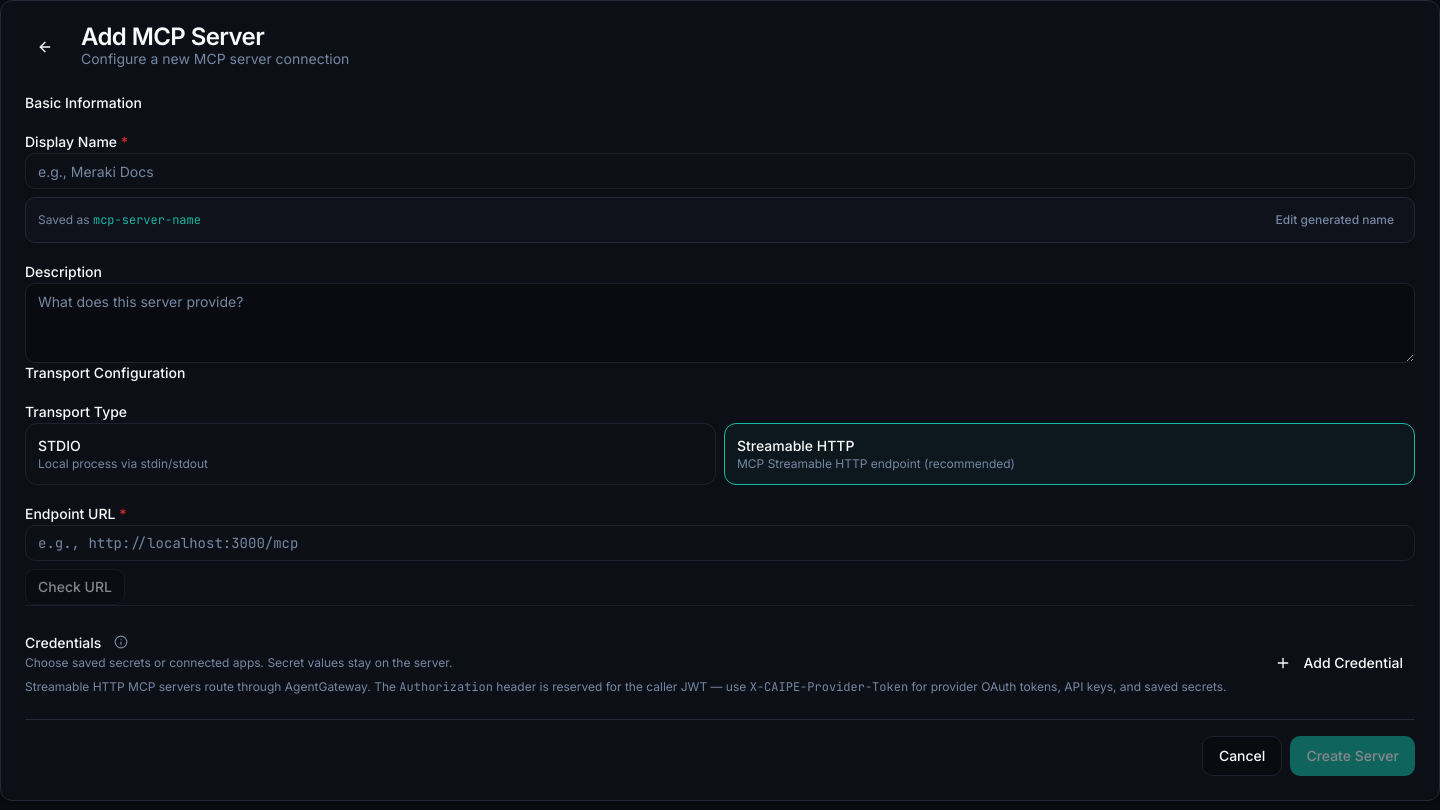
Test: MCPServerEditor credential sources › can probe an endpoint and apply the suggested /mcp URL
The width and height of the screenshot is (1440, 810).
In the field labelled "Endpoint URL *": x=720, y=543 [25,525,1415,561], type "http://mcp-argocd:8000"
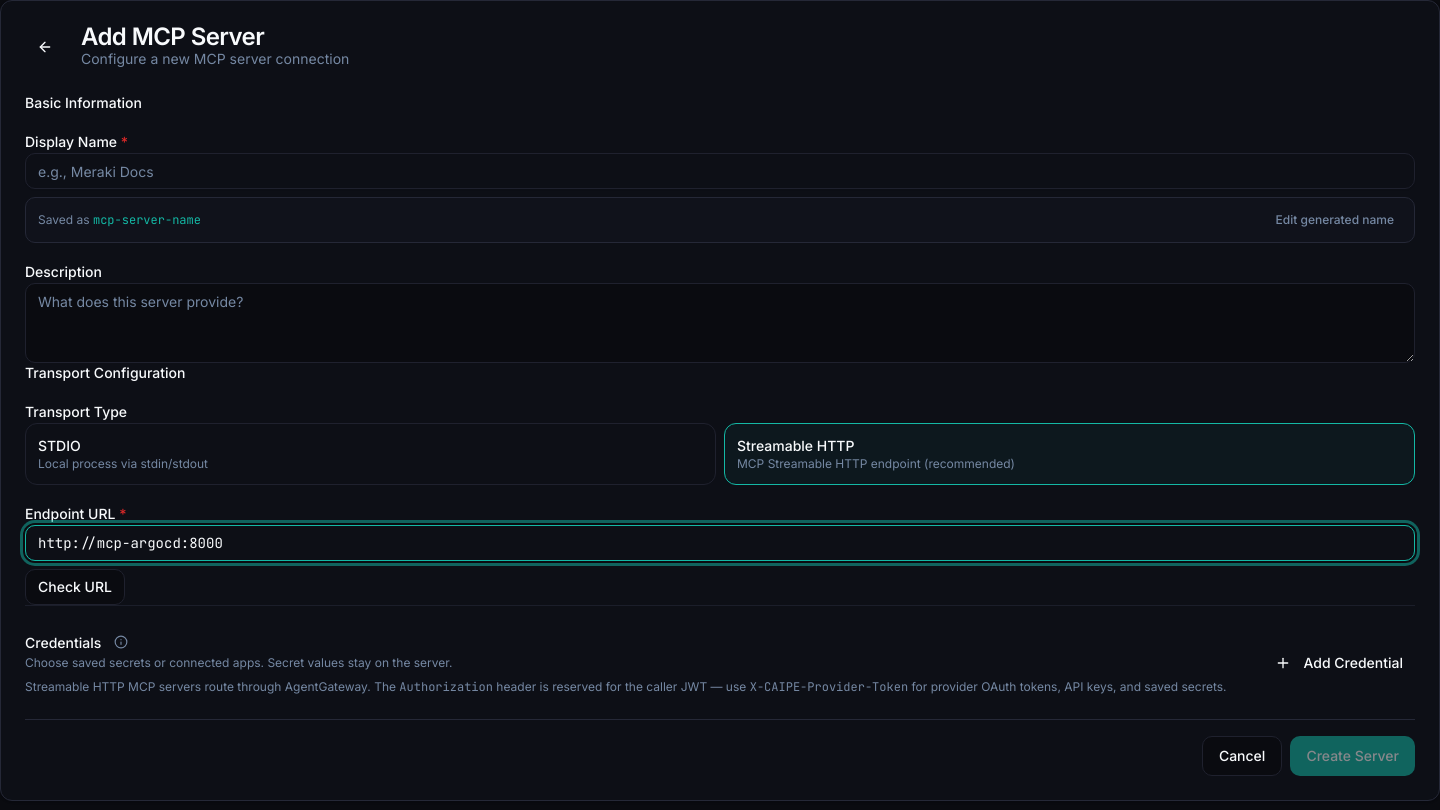
Click the button "Check URL": x=75, y=587 [25,569,125,605]
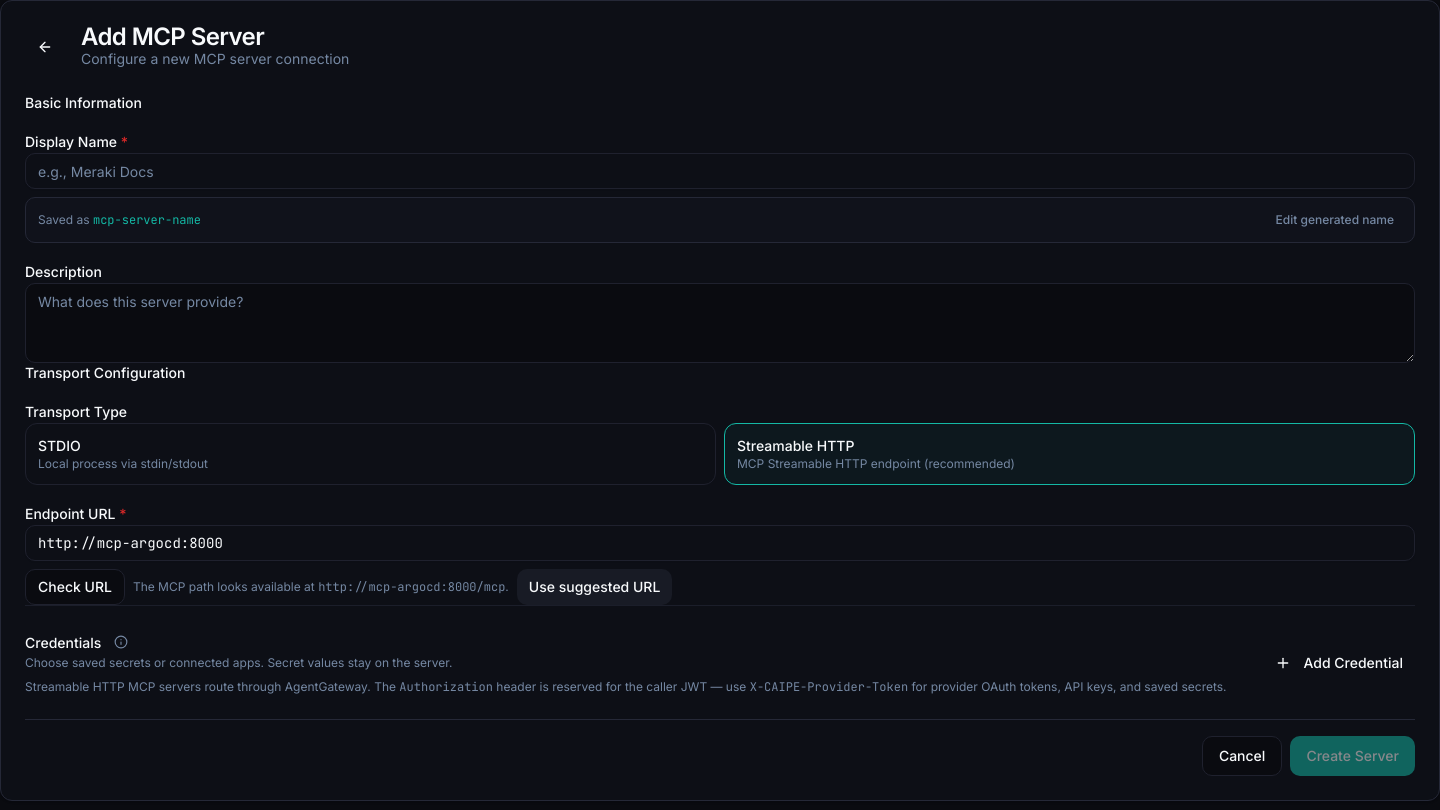
Expected: the text "http://mcp-argocd:8000/mcp" is shown, [318,579,505,595]
Click the button "Use suggested URL": x=595, y=587 [517,569,672,605]
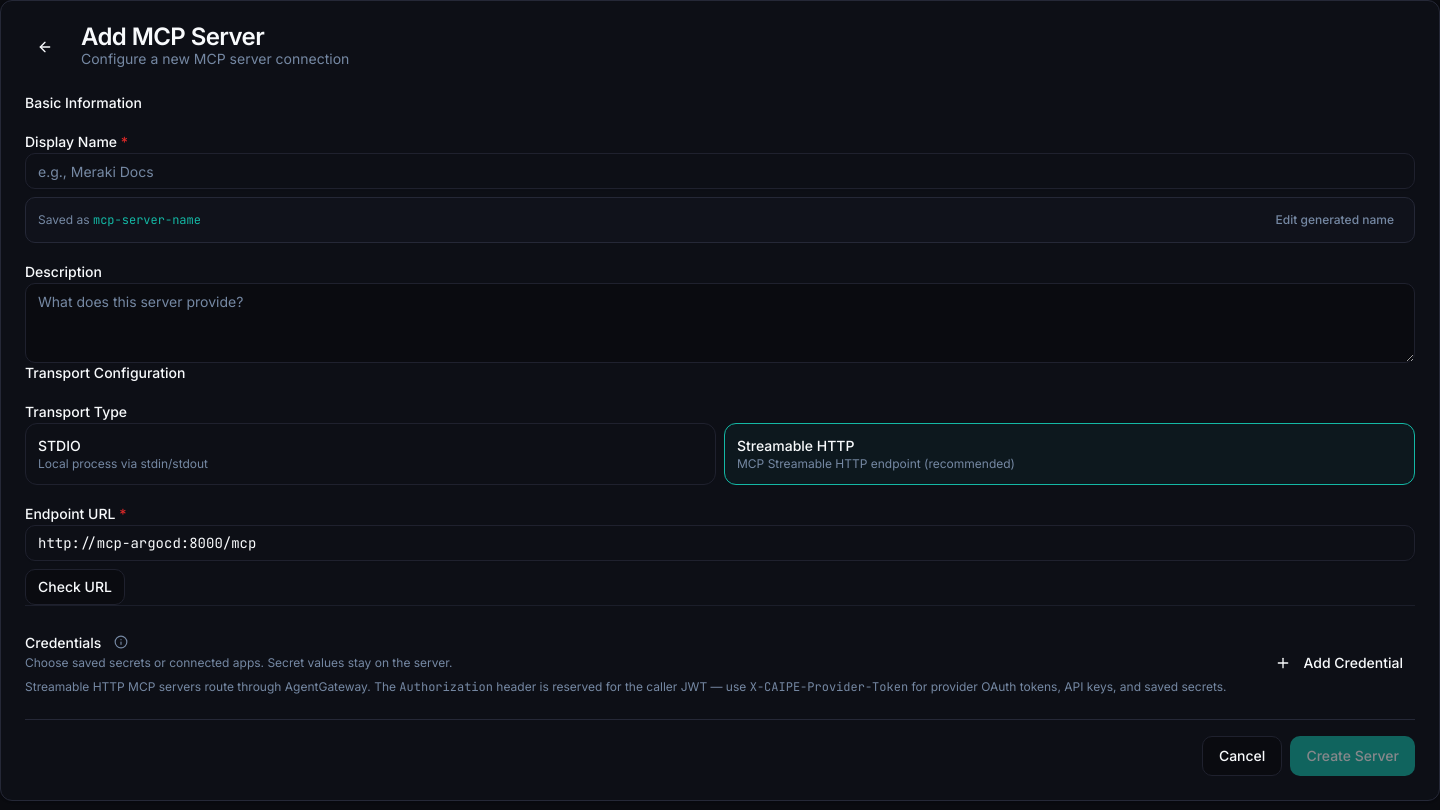
Expected: the field labelled "Endpoint URL *" holds "http://mcp-argocd:8000/mcp", [25,525,1415,561]
